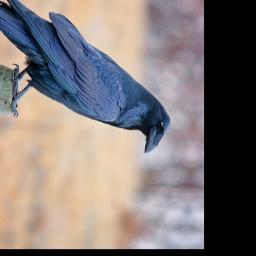Crow: (0, 0, 182, 157)
